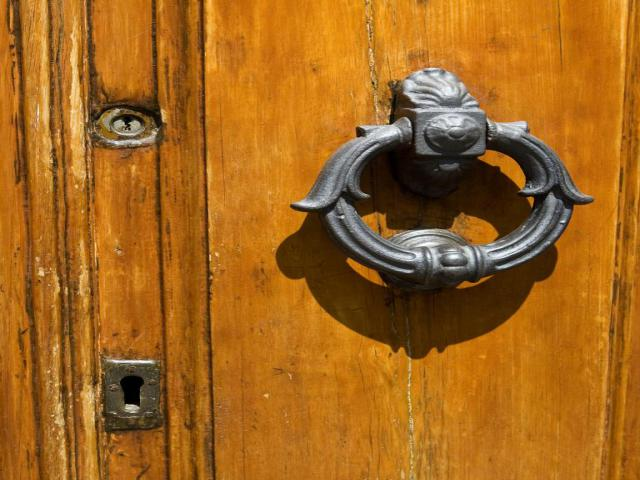Door-handle: (290, 66, 599, 292)
